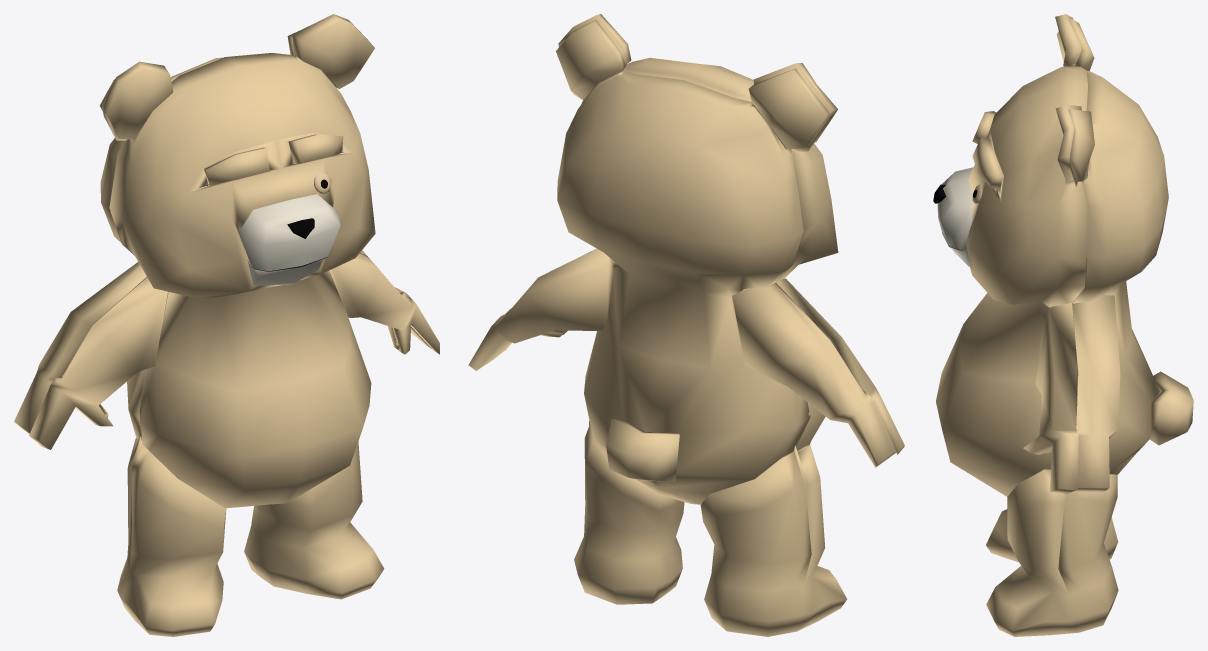
The model's file is ted0.glb.
3 renders of one model, left to right at view 1: azimuth 30°, elevation 25°; view 2: azimuth 150°, elevation 25°; view 3: azimuth 270°, elevation 25°, orthographic. The views are drawn at different scales.
Visible parts, largest first — view 1: Cube.002_Material.005, Cube.002_Material.006; view 2: Cube.002_Material.005; view 3: Cube.002_Material.005, Cube.002_Material.006.
Part boxes in pixels (x1,y1,x2,y2): Cube.002_Material.005: (14, 14, 439, 636); Cube.002_Material.006: (239, 194, 340, 285); Cube.002_Material.005: (468, 14, 904, 636); Cube.002_Material.005: (936, 14, 1193, 636); Cube.002_Material.006: (937, 167, 973, 268).
Size of the model in its own units: 7.71 by 10 by 4.5.
